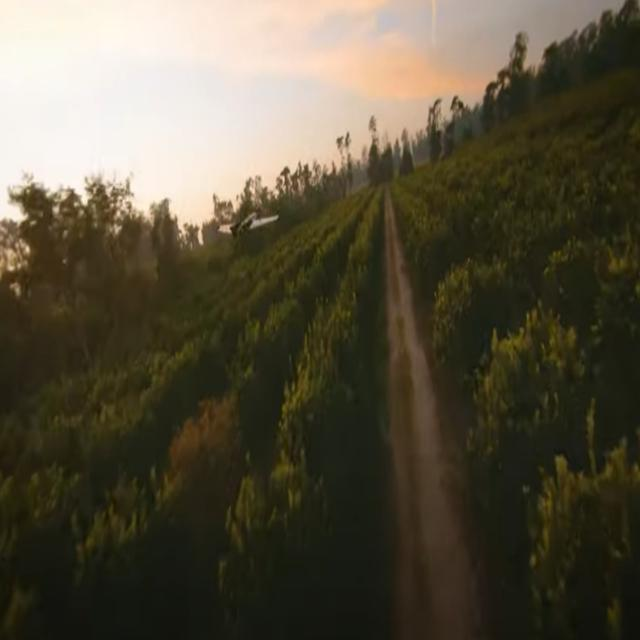iha: (218, 210, 280, 239)
